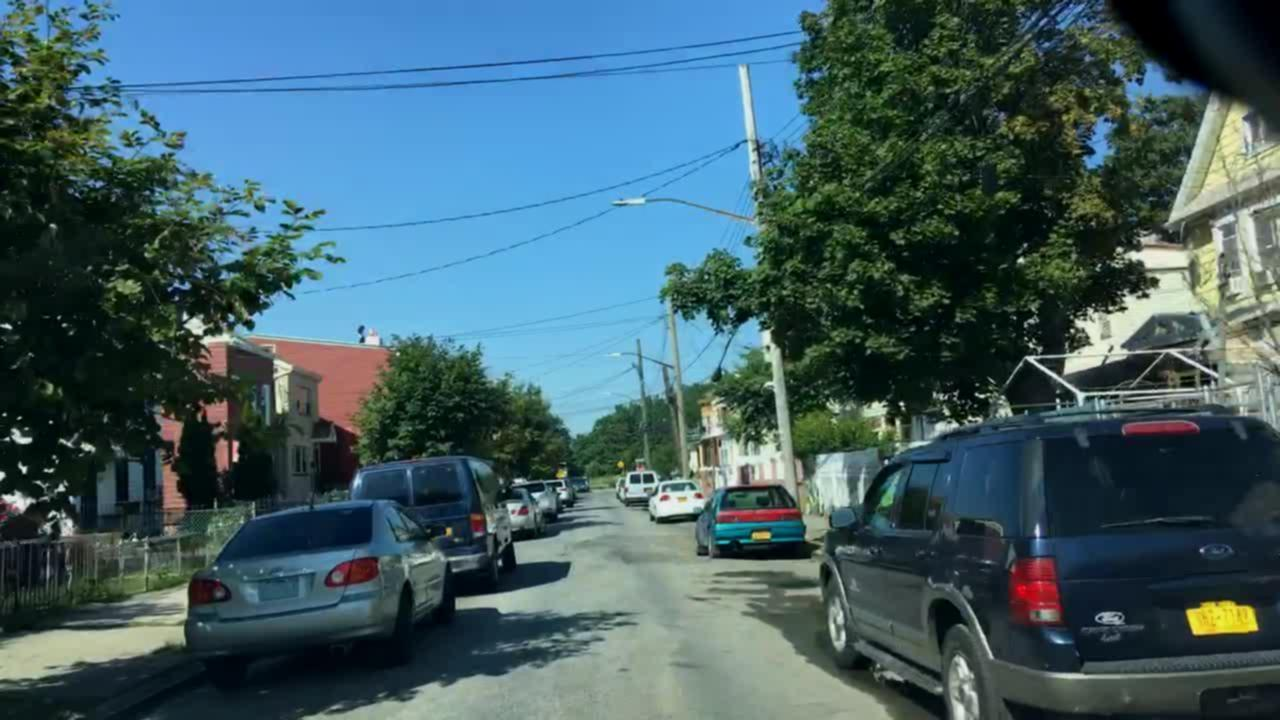ford: (1198, 542, 1239, 565)
